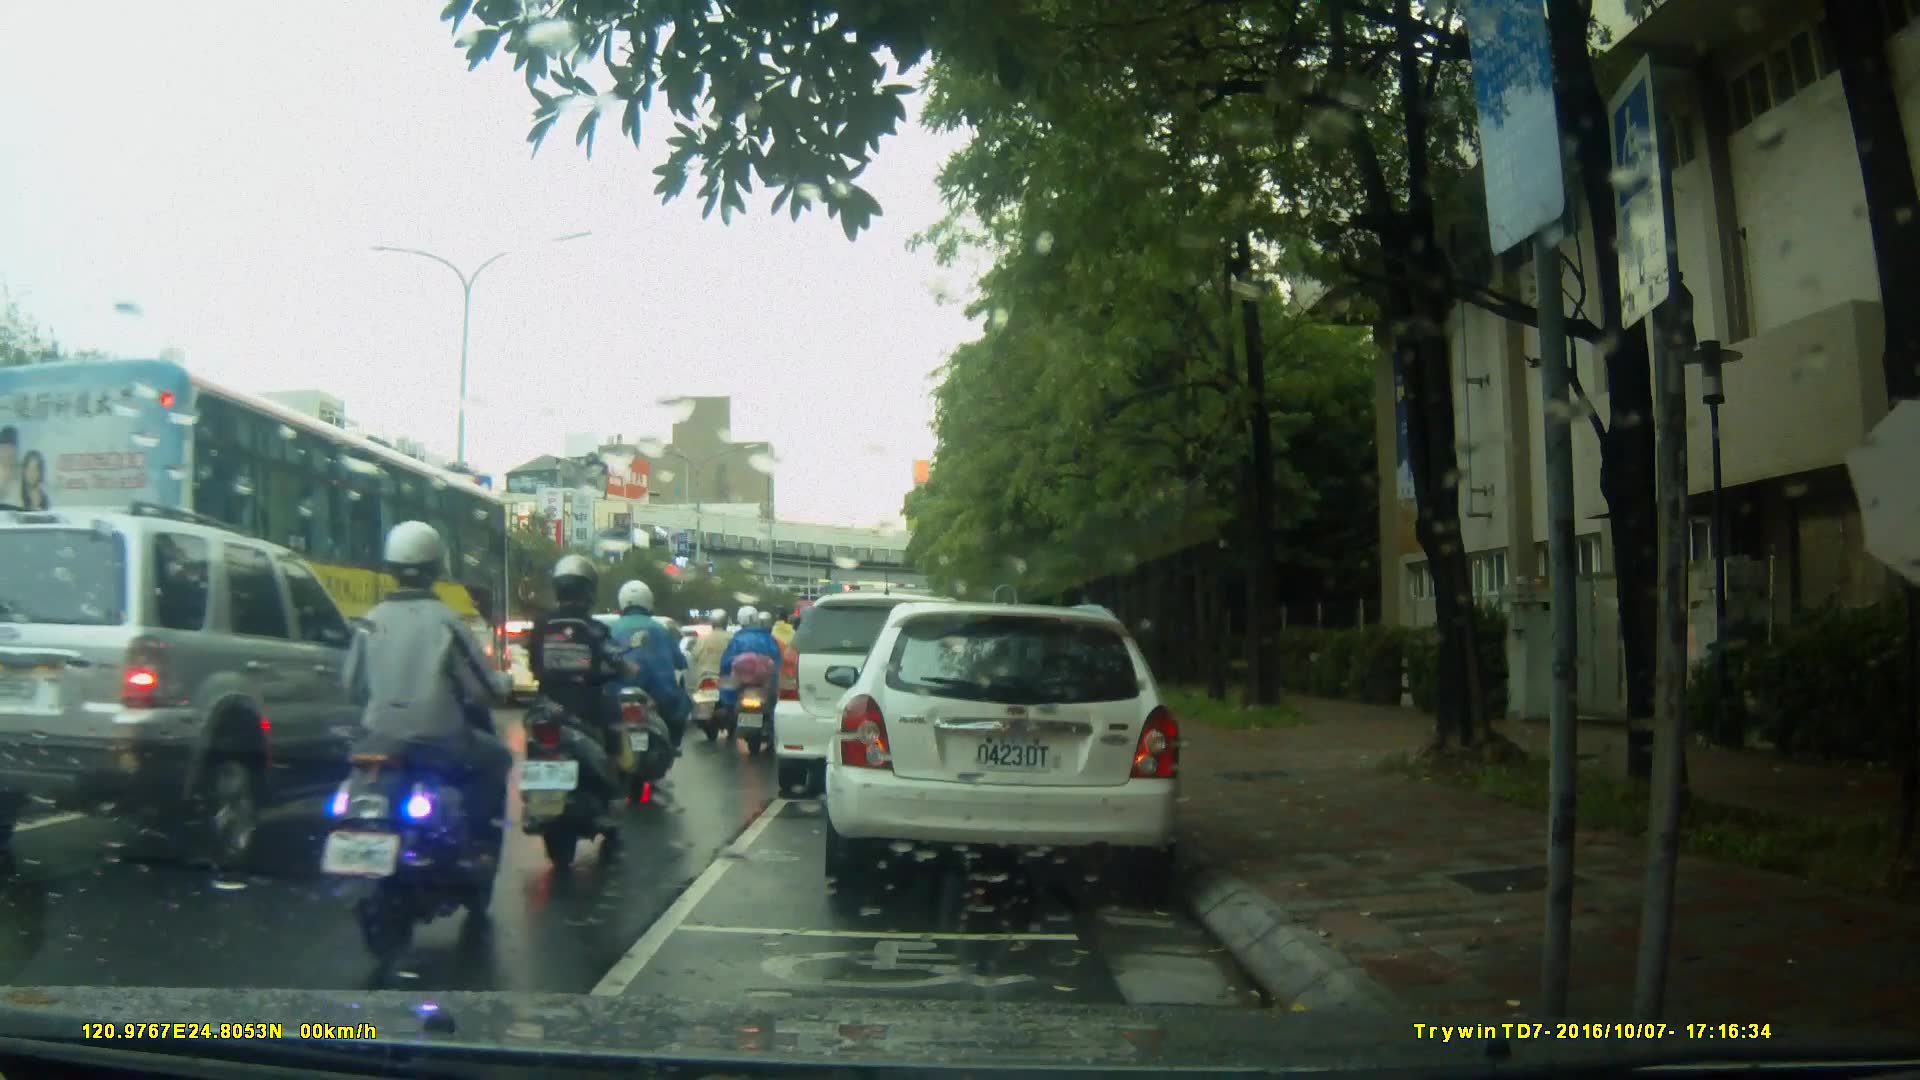rider: (321, 515, 513, 958), (519, 552, 641, 872), (597, 577, 697, 799), (720, 608, 800, 747), (685, 601, 743, 740), (759, 604, 803, 712)
vehicle: (2, 358, 522, 774), (1, 501, 423, 886), (835, 594, 1194, 898), (776, 590, 1026, 784)
